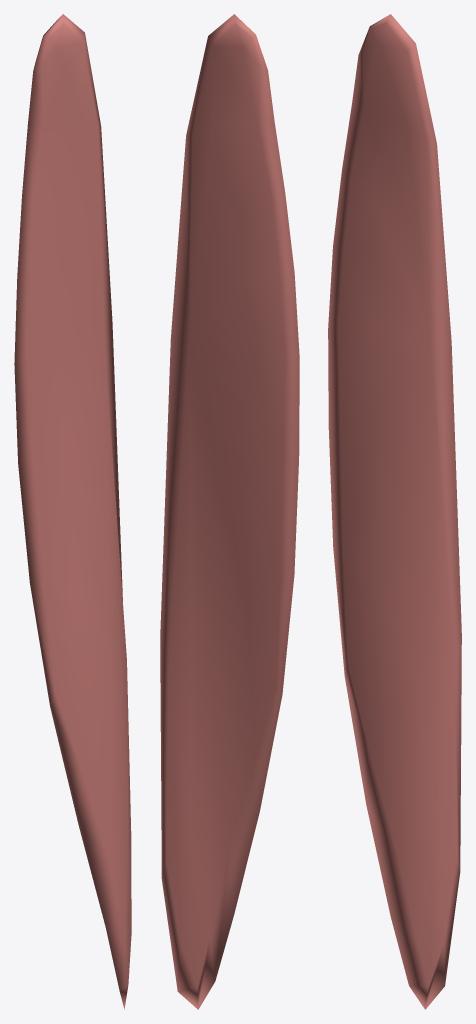
3 views of the same model, side by side, from view 1: azimuth 30°, elevation 25°; view 2: azimuth 150°, elevation 25°; view 3: azimuth 330°, elevation 25° (orthographic). The views are drawn at different scales.
Parts seen in each view (by area): view 1: ZA_199f30545b10953b; view 2: ZA_199f30545b10953b; view 3: ZA_199f30545b10953b.
Boxes of the visible parts, left/top/right/bottom form: ZA_199f30545b10953b: left=14, top=14, right=131, bottom=1009; ZA_199f30545b10953b: left=160, top=14, right=299, bottom=1009; ZA_199f30545b10953b: left=328, top=14, right=461, bottom=1009.
Bounding box in the file's own units: 0.00418 × 0.032 × 0.00164.
